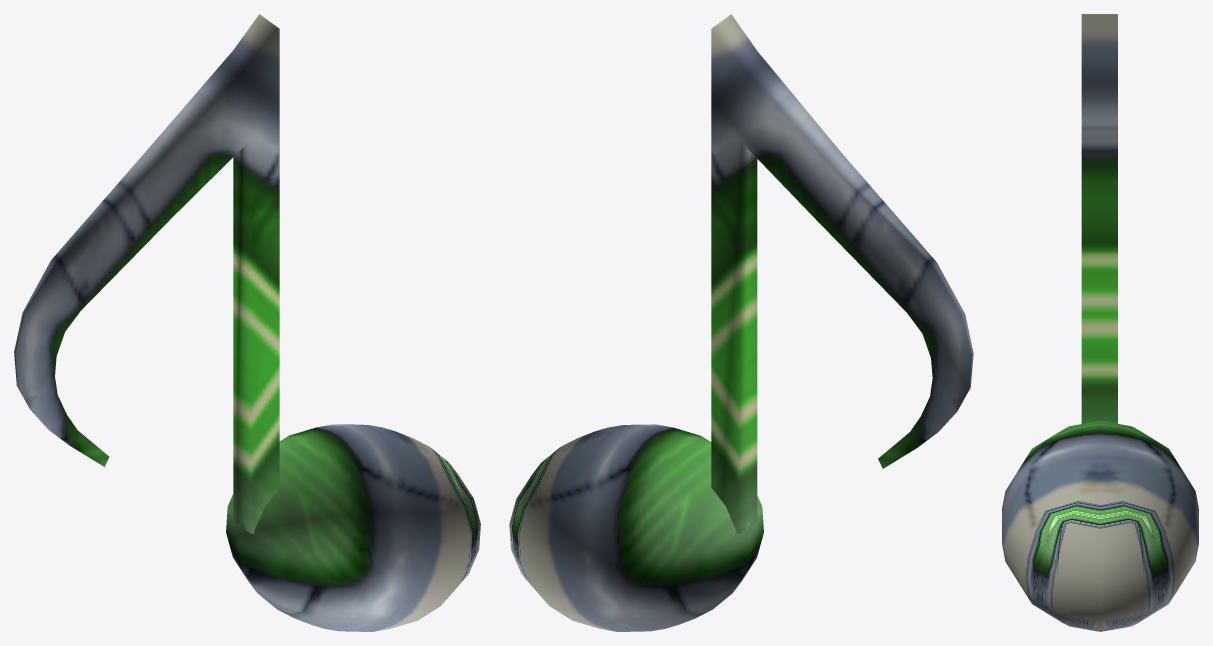
The model's file is icon.ico.obj.
The picture shows the model from 3 angles, left to right: view 1: azimuth 30°, elevation 25°; view 2: azimuth 150°, elevation 25°; view 3: azimuth 270°, elevation 25°; orthographic projection. The views are drawn at different scales.
Size of the model in its own units: 3.53 by 4.65 by 1.48.
